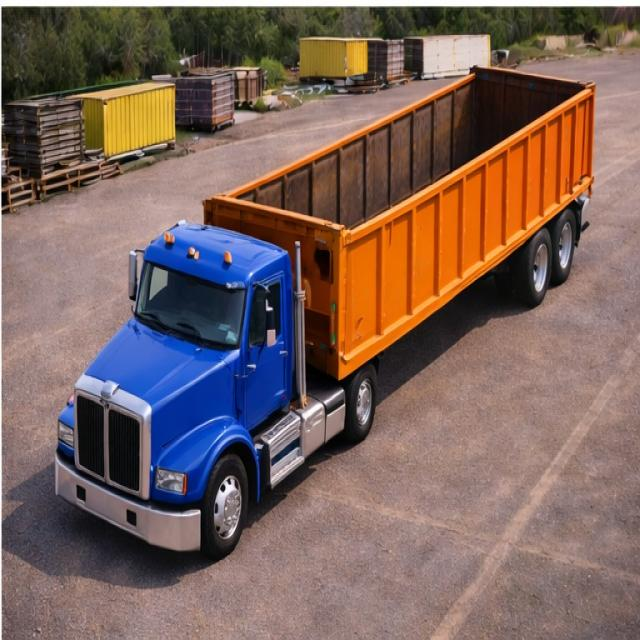trailer: (201, 62, 598, 243)
truck: (50, 38, 617, 563)
